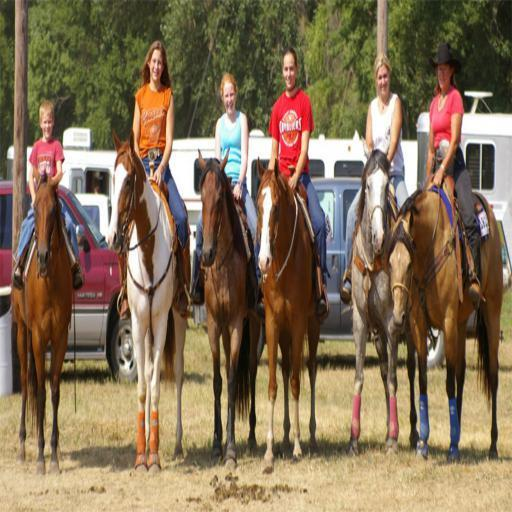horse: (382, 186, 504, 465), (104, 126, 188, 474), (350, 130, 416, 454), (196, 144, 260, 476), (256, 156, 322, 469), (11, 164, 75, 476)
